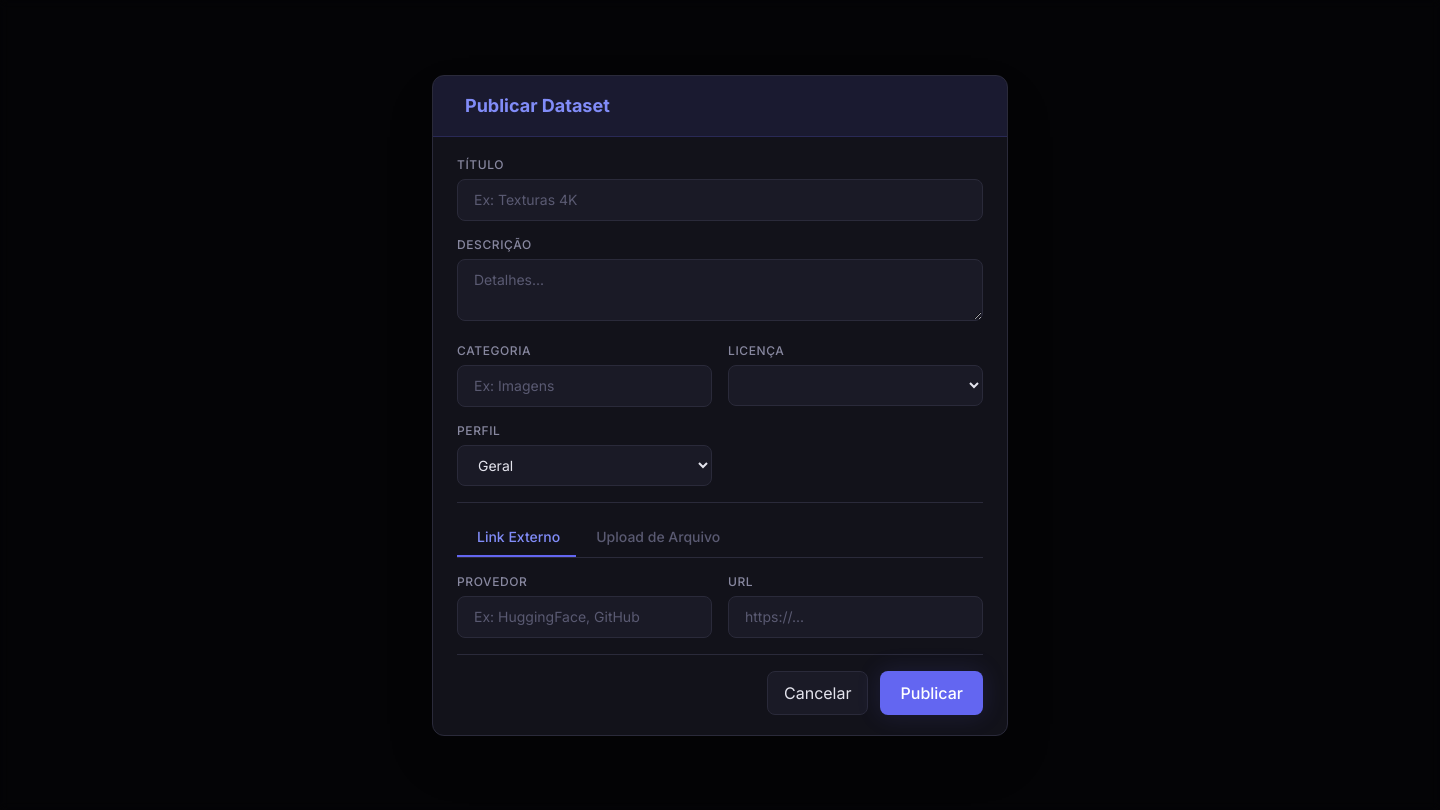
Test: UploadModal Component › shows error when no token configured
The width and height of the screenshot is (1440, 810).
In the field with placeholder "Ex: Texturas 4K": x=720, y=200 top-left (457, 178), bottom-right (983, 220), type "Test"
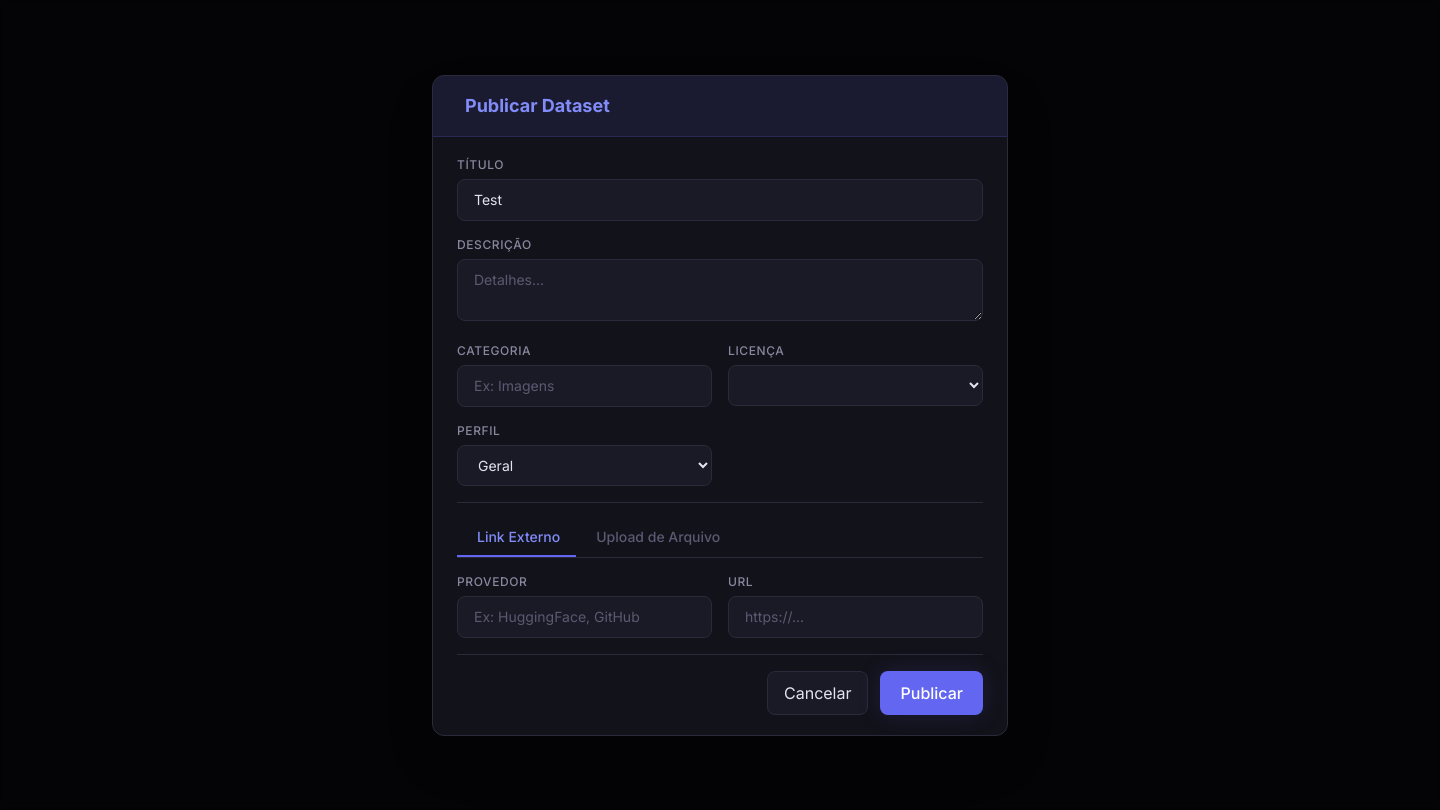
In the text box with placeholder "Detalhes...": x=720, y=290 top-left (457, 258), bottom-right (983, 320), type "Desc"
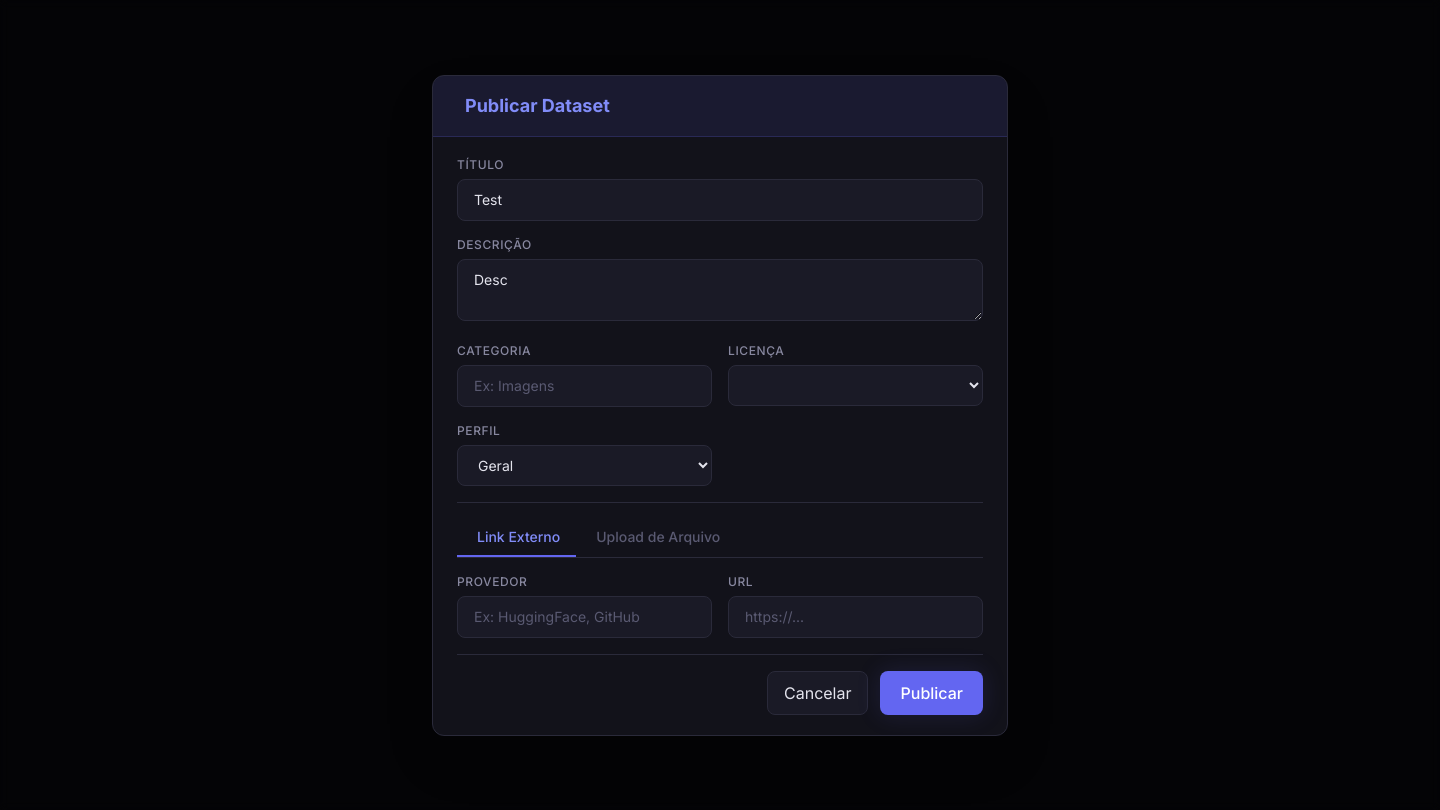
Click the button "Publicar": x=932, y=692 top-left (880, 670), bottom-right (983, 714)
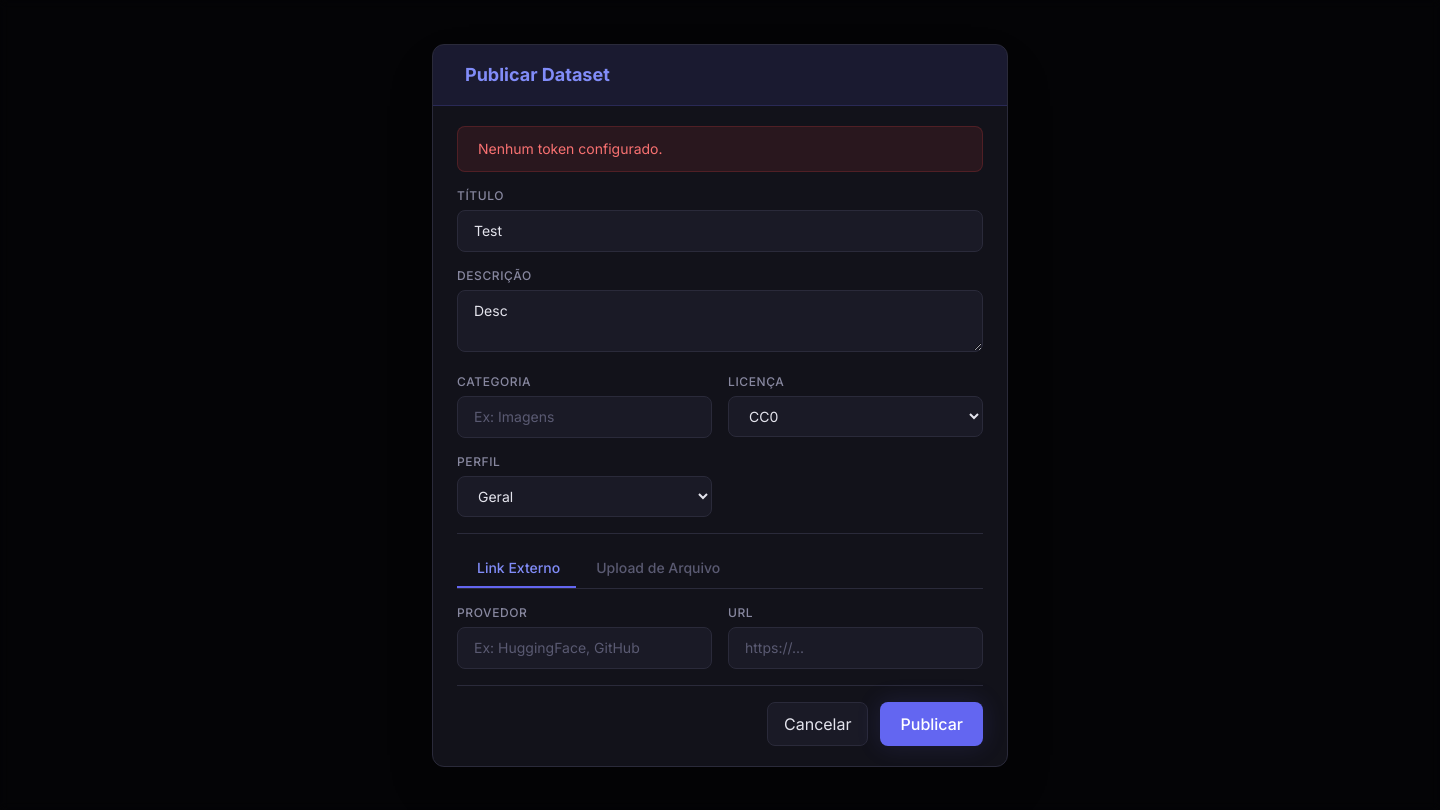
Expected: the text "Nenhum token configurado." is shown, top-left (478, 138), bottom-right (663, 158)
